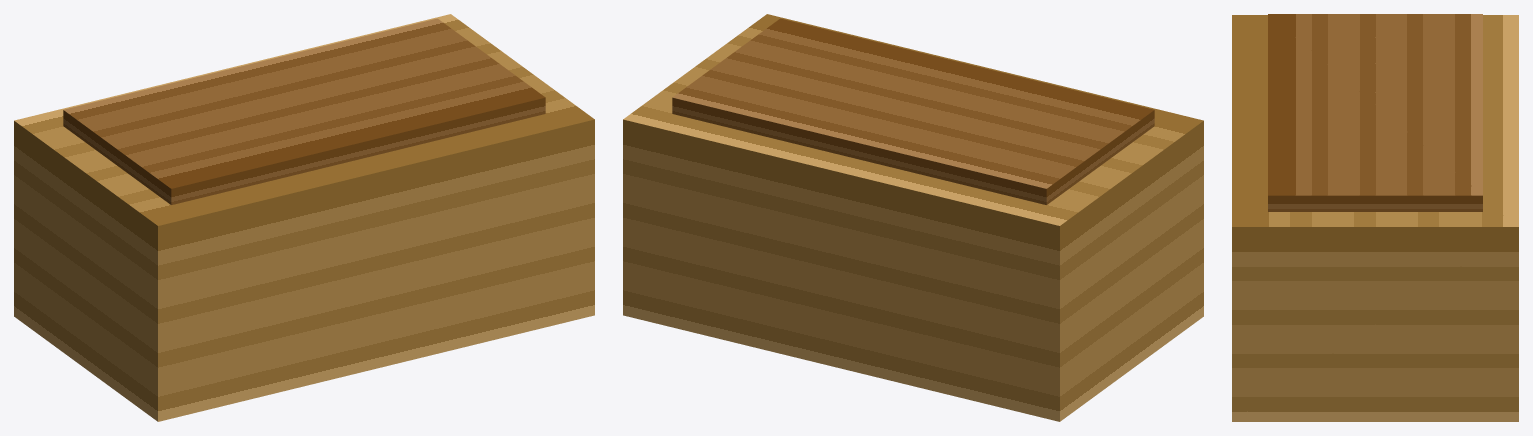
3 views of the same model, side by side, from view 1: azimuth 30°, elevation 25°; view 2: azimuth 150°, elevation 25°; view 3: azimuth 270°, elevation 25° (orthographic).
Parts seen in each view (by area): view 1: bread; view 2: bread; view 3: bread.
Part boxes in pixels (bbox=[...]): bread: bbox=[14, 14, 594, 421]; bread: bbox=[623, 14, 1203, 421]; bread: bbox=[1232, 14, 1518, 421].
Bounding box in the file's own units: 0.28 × 0.13 × 0.16.
3 materials, 3 textured.
